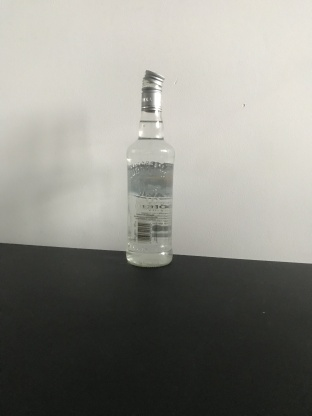nakretka: (139, 67, 166, 112)
